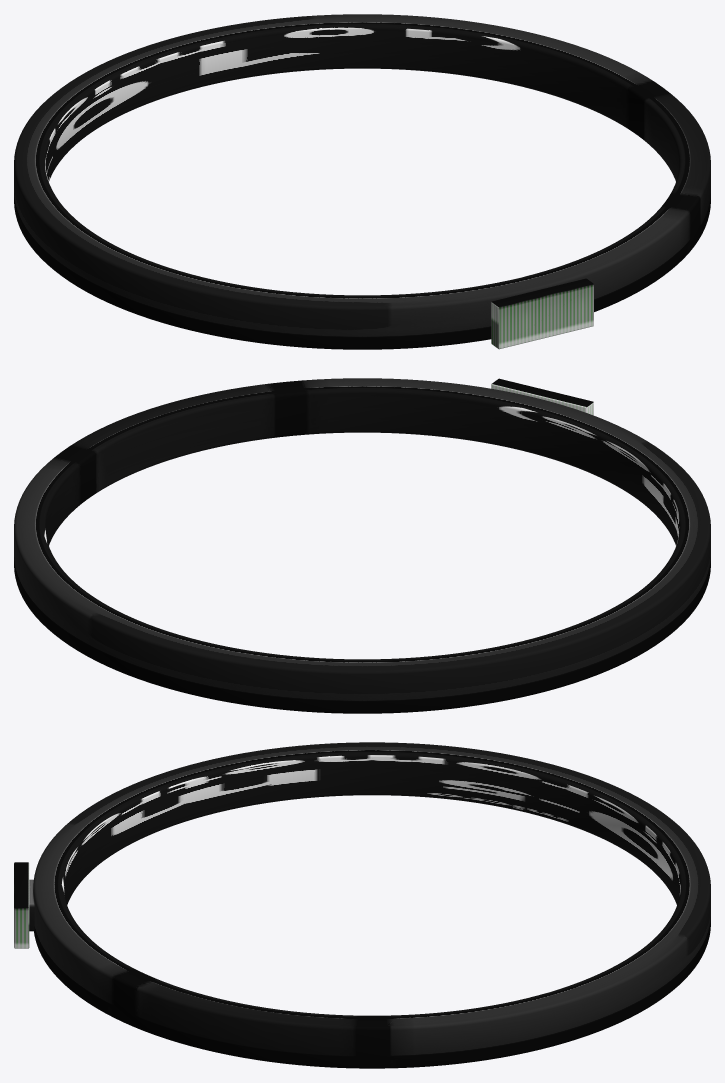
The model's file is 07-scalering-10um.dae.
The picture shows the model from 3 angles, top to bottom: view 1: azimuth 30°, elevation 25°; view 2: azimuth 150°, elevation 25°; view 3: azimuth 270°, elevation 25°; orthographic projection. The views are drawn at different scales.
Visible parts, largest first — view 1: scalering.1, screen.1; view 2: scalering.1, screen.1; view 3: scalering.1, screen.1.
Boxes of the visible parts, x1,y1,x2,y2 form: scalering.1: (14, 14, 710, 349); screen.1: (491, 278, 593, 349); scalering.1: (14, 378, 710, 713); screen.1: (491, 378, 593, 415); scalering.1: (33, 742, 710, 1068); screen.1: (14, 862, 29, 948).
Bounding box in the file's own units: 11 × 0.75 × 11.31.
Materials: 3 (3 with a texture image).
